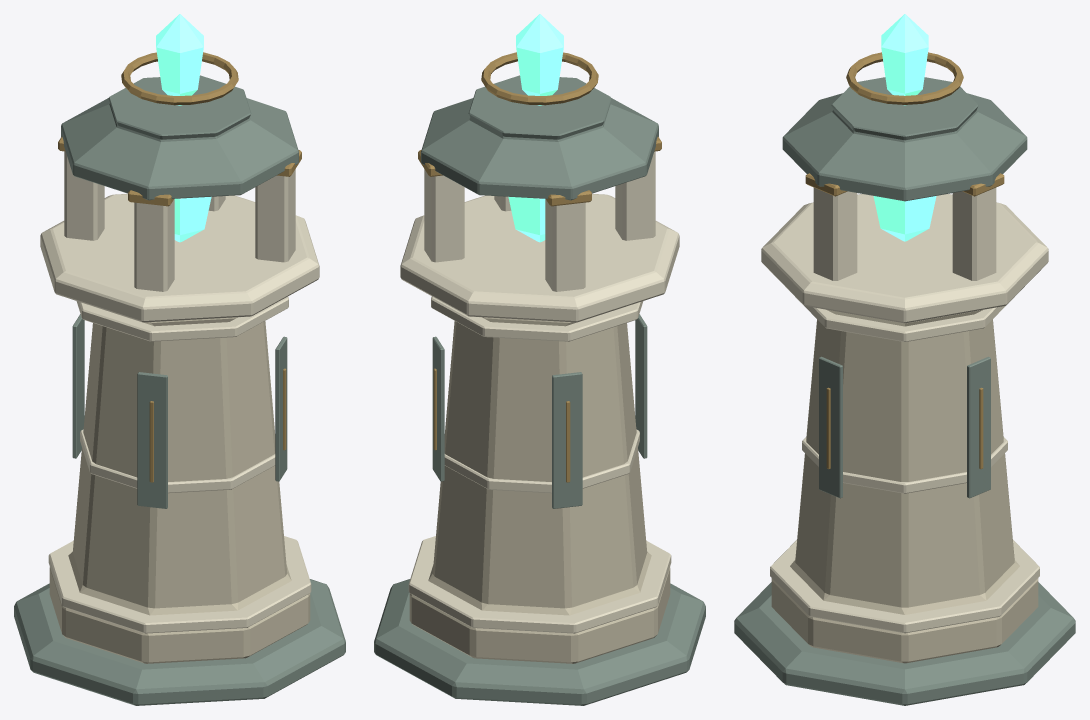
The model's file is watchtower_green.glb.
3 renders of one model, left to right at view 1: azimuth 30°, elevation 25°; view 2: azimuth 150°, elevation 25°; view 3: azimuth 270°, elevation 25°, orthographic.
Parts seen in each view (by area): view 1: watchtower_green / mesh; view 2: watchtower_green / mesh; view 3: watchtower_green / mesh.
Boxes of the visible parts, x1,y1,x2,y2 form: watchtower_green / mesh: [14, 14, 345, 705]; watchtower_green / mesh: [374, 14, 705, 705]; watchtower_green / mesh: [734, 14, 1075, 705].
Size of the model in its own units: 5.96 by 11.97 by 5.96.
